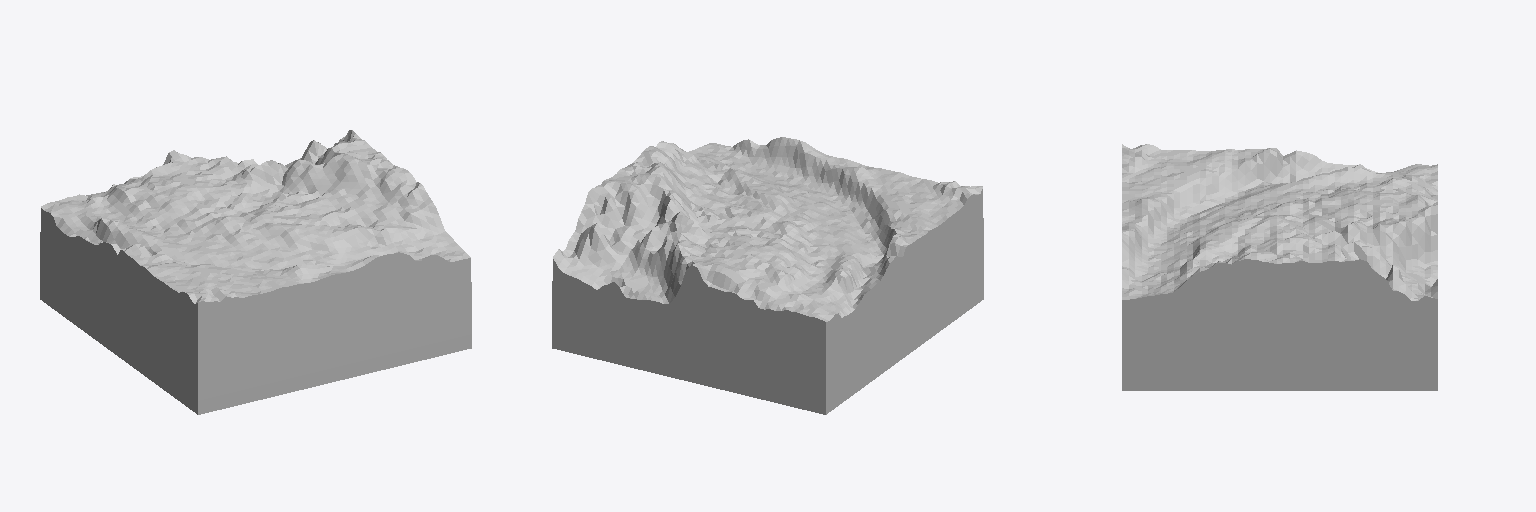
File: block_0_0.obj
3 views of the same model, side by side, from view 1: azimuth 30°, elevation 25°; view 2: azimuth 150°, elevation 25°; view 3: azimuth 270°, elevation 25° (orthographic).
Parts seen in each view (by area): view 1: Mesh_1; view 2: Mesh_1; view 3: Mesh_1.
Part boxes in pixels (x1,y1,x2,y2): Mesh_1: (40, 130, 471, 414); Mesh_1: (552, 137, 983, 414); Mesh_1: (1122, 144, 1437, 390).
Bounding box in the file's own units: 0.1 × 0.0476 × 0.1.